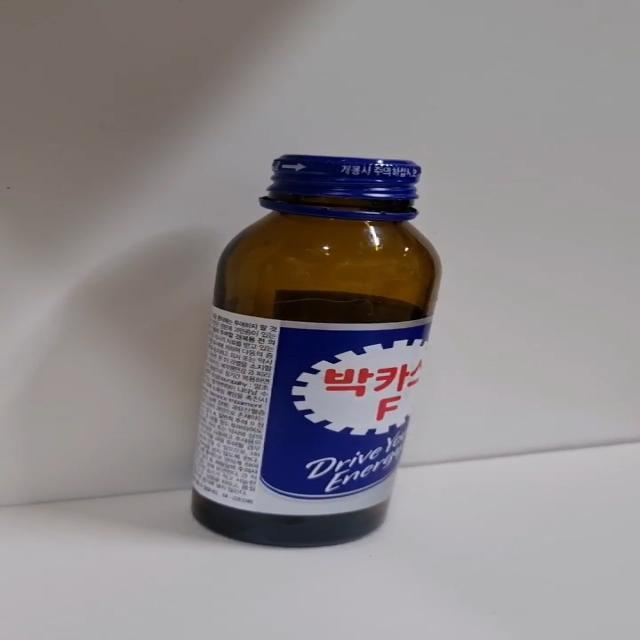Glass: (189, 155, 443, 551)
